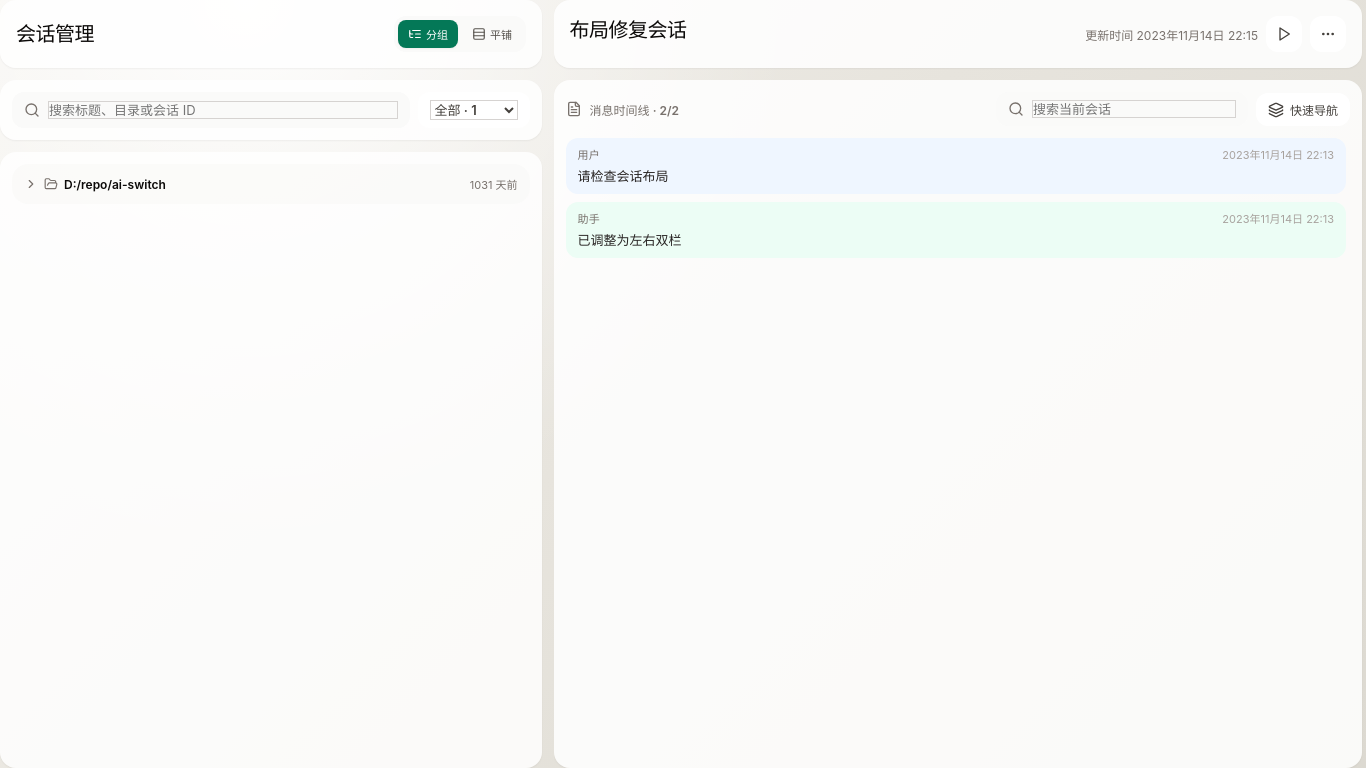
it: SessionsScreen › opens quick navigation from its button and closes it with Escape
Click the button "快速导航" at (1303,109), box left=1256, top=92, right=1350, bottom=126
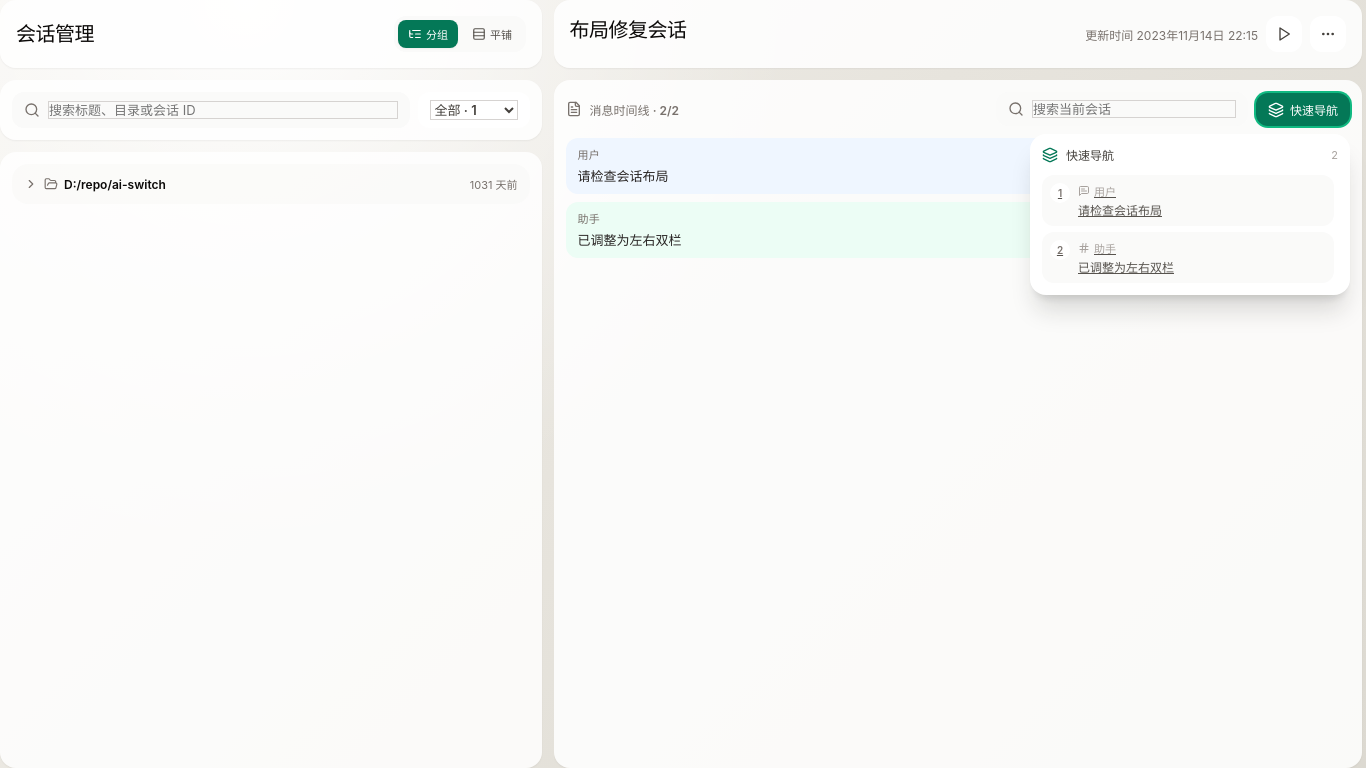
Expected: the button "快速导航" is expanded, left=1256, top=92, right=1350, bottom=126
Expected: the dialog "快速导航" is shown, left=1030, top=134, right=1350, bottom=294
Press Escape
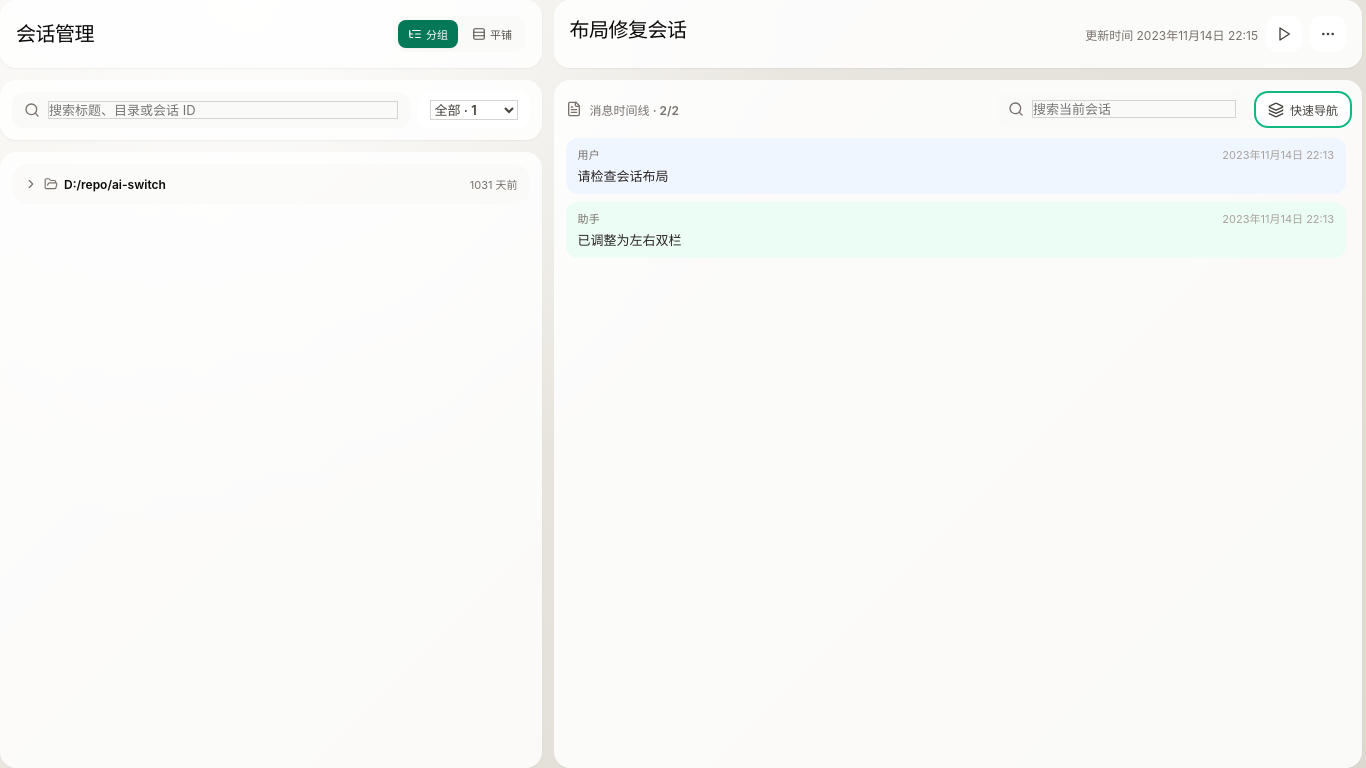
Expected: the dialog "快速导航 2 1 用户 请检查会话布局 2 助手 已调整为左右双栏" is gone
